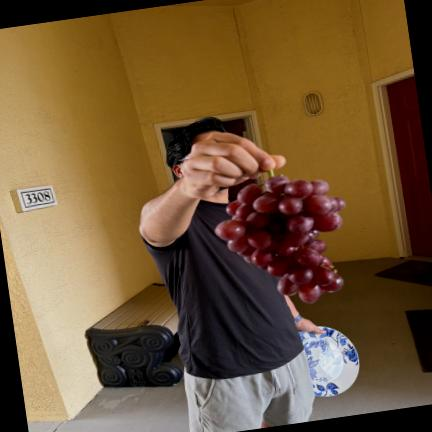grape_cluster: (214, 168, 345, 303)
